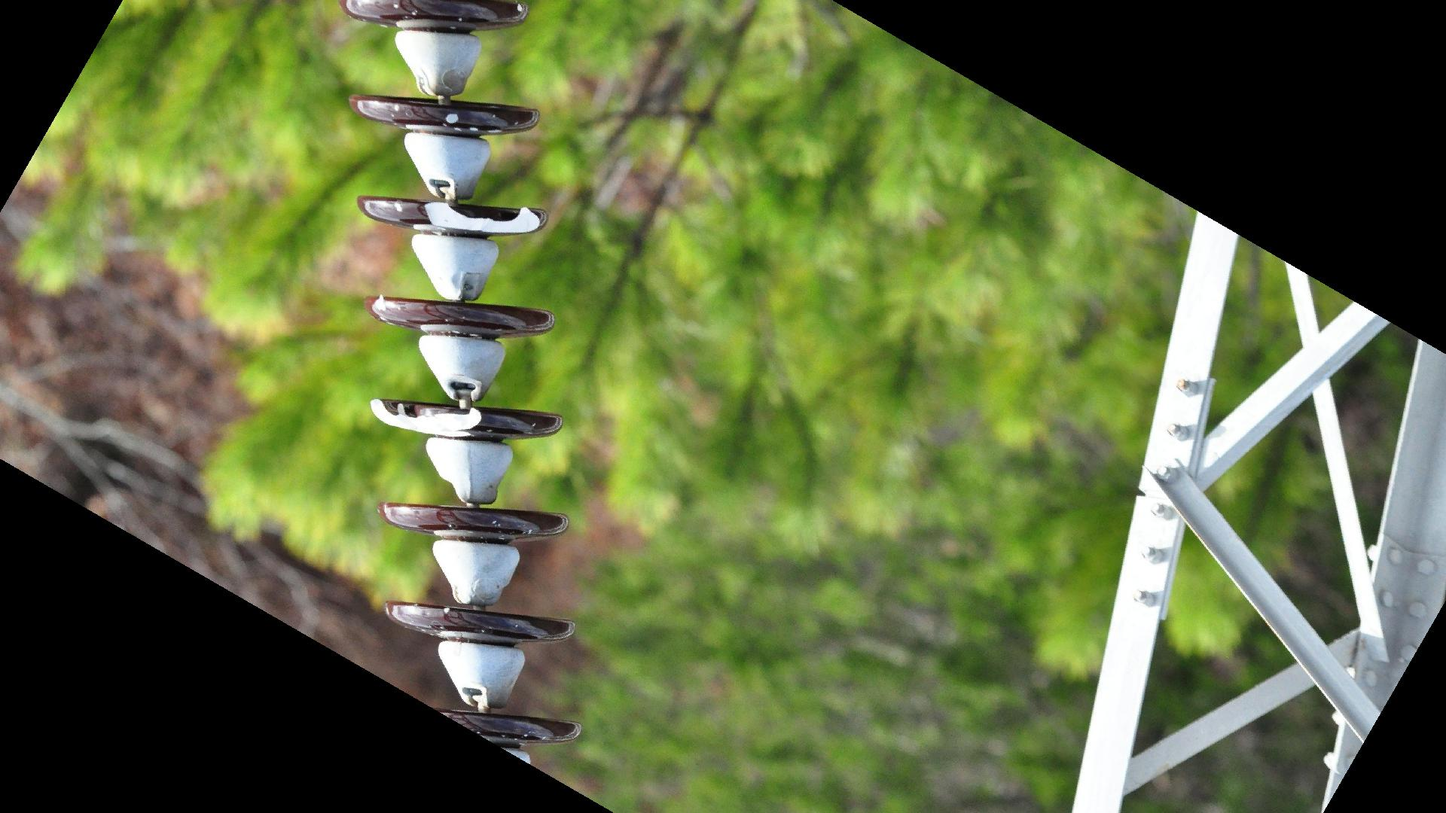insulator: (334, 1, 592, 757)
insulator_breakage: (416, 195, 548, 242), (362, 394, 491, 440)
